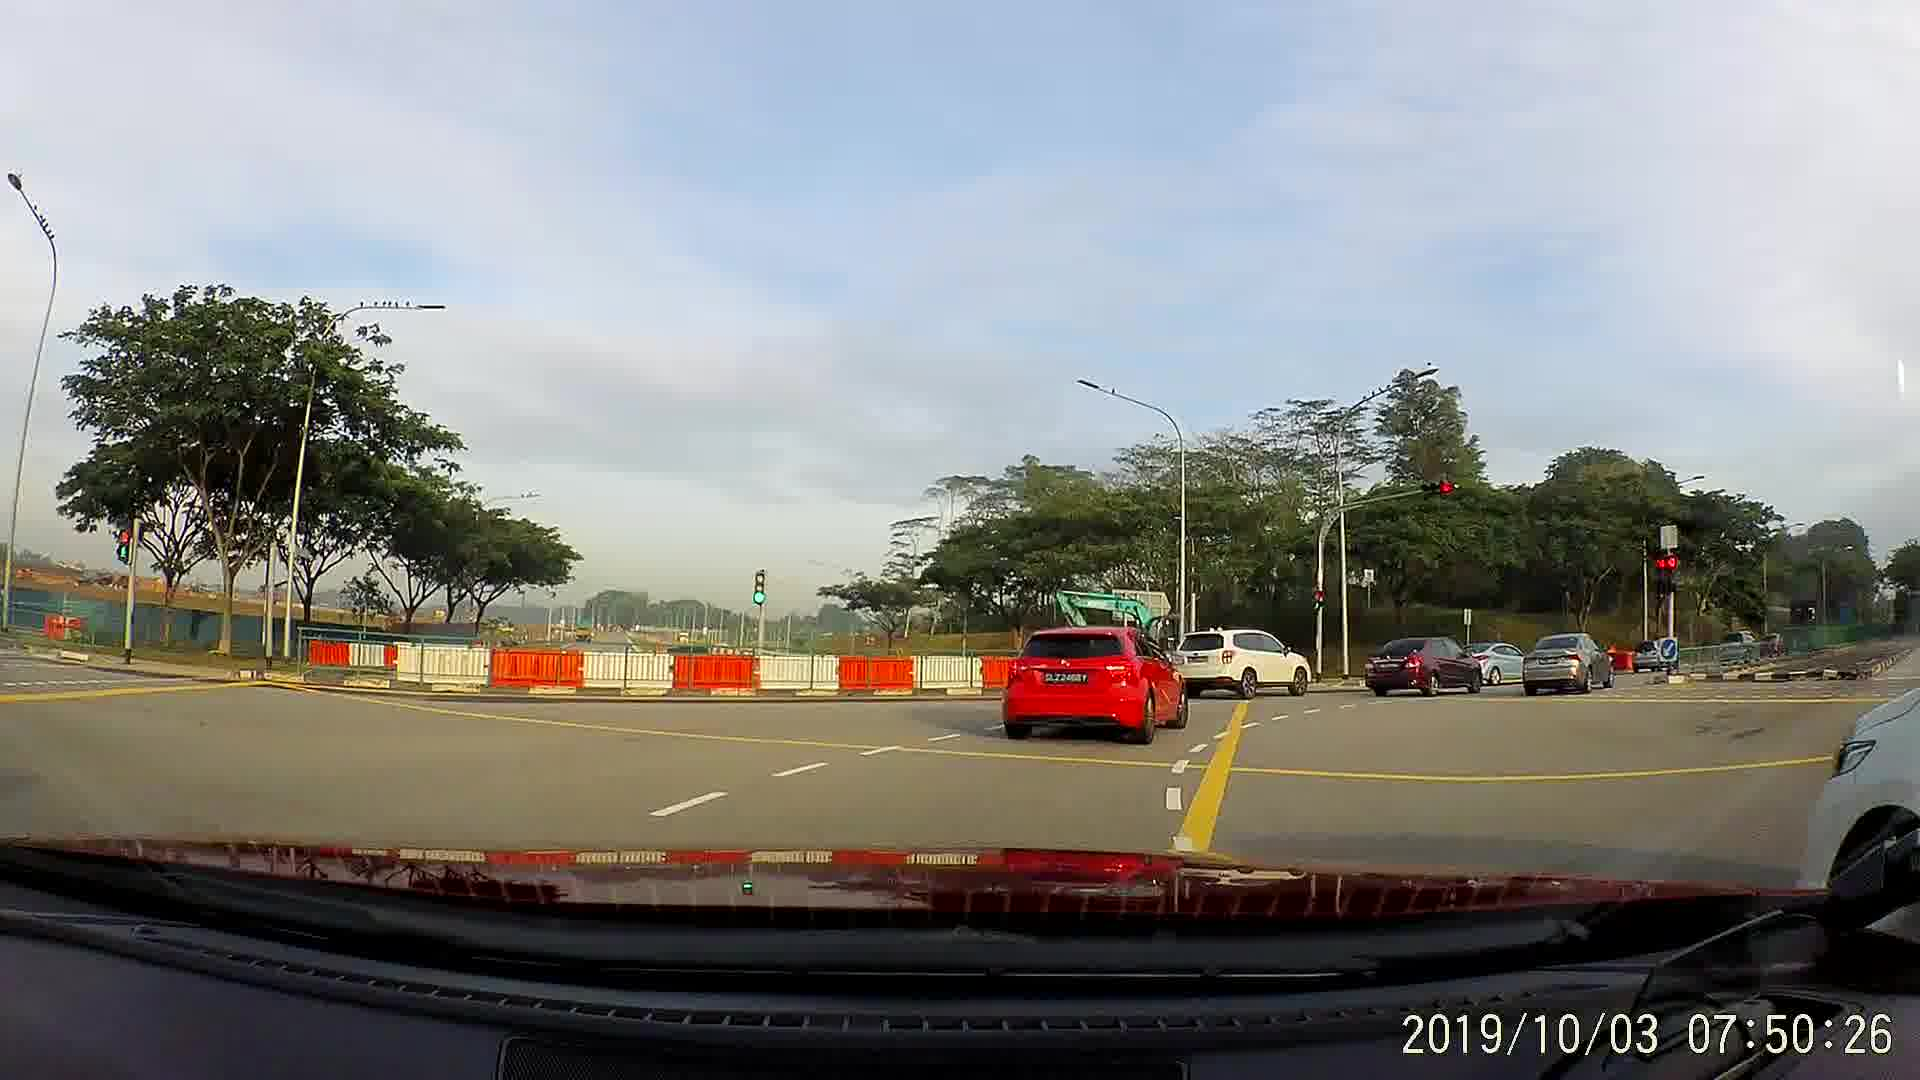car: (1000, 626, 1193, 746), (1167, 611, 1323, 703), (1360, 632, 1485, 700), (1511, 632, 1618, 694), (1714, 625, 1763, 669), (1629, 636, 1683, 674), (1758, 626, 1791, 659)
